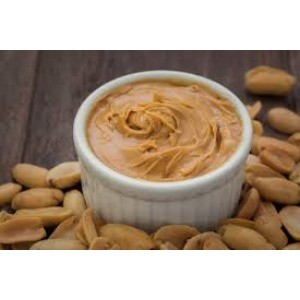peanut butter_brain food: (83, 71, 241, 192)
